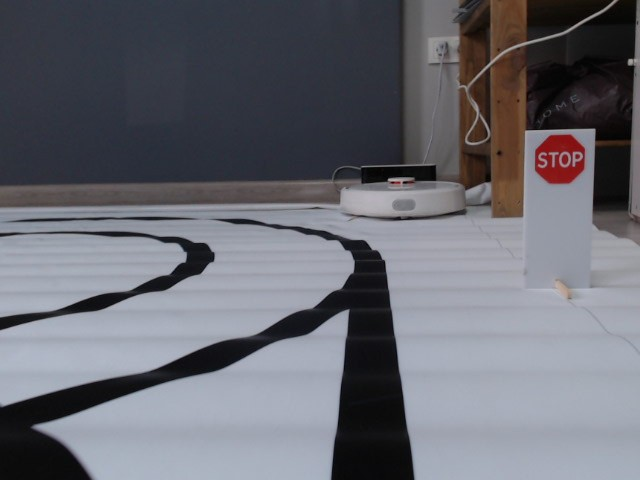Stop: (534, 133, 587, 186)
